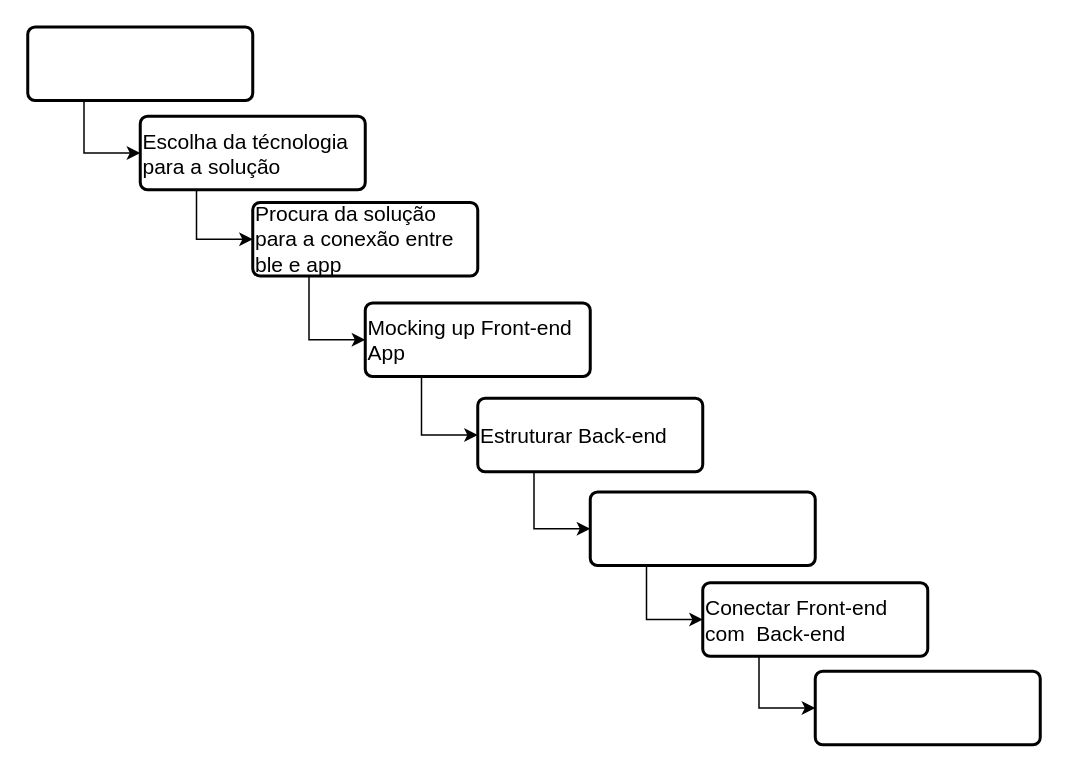
This 1067x773 diagram has some shape labels left out. Each missing label, with the centre of its shape:
"Desenvolver Front-end" goes at (x=702, y=528).
"Finalizar detalhes da aplicação" goes at (x=927, y=707).
"Introdução à técnologia BLE" goes at (x=140, y=63).
